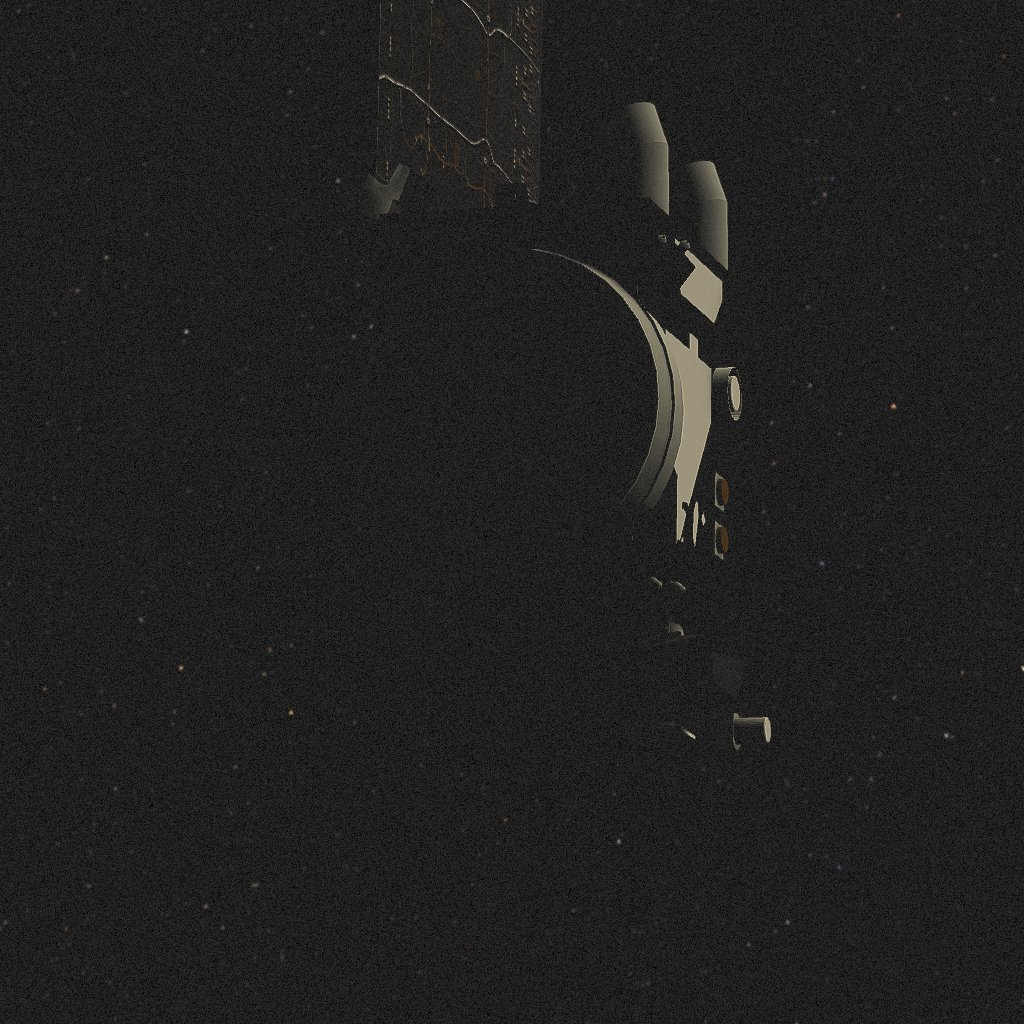proba_3_csc: (343, 0, 771, 768)
